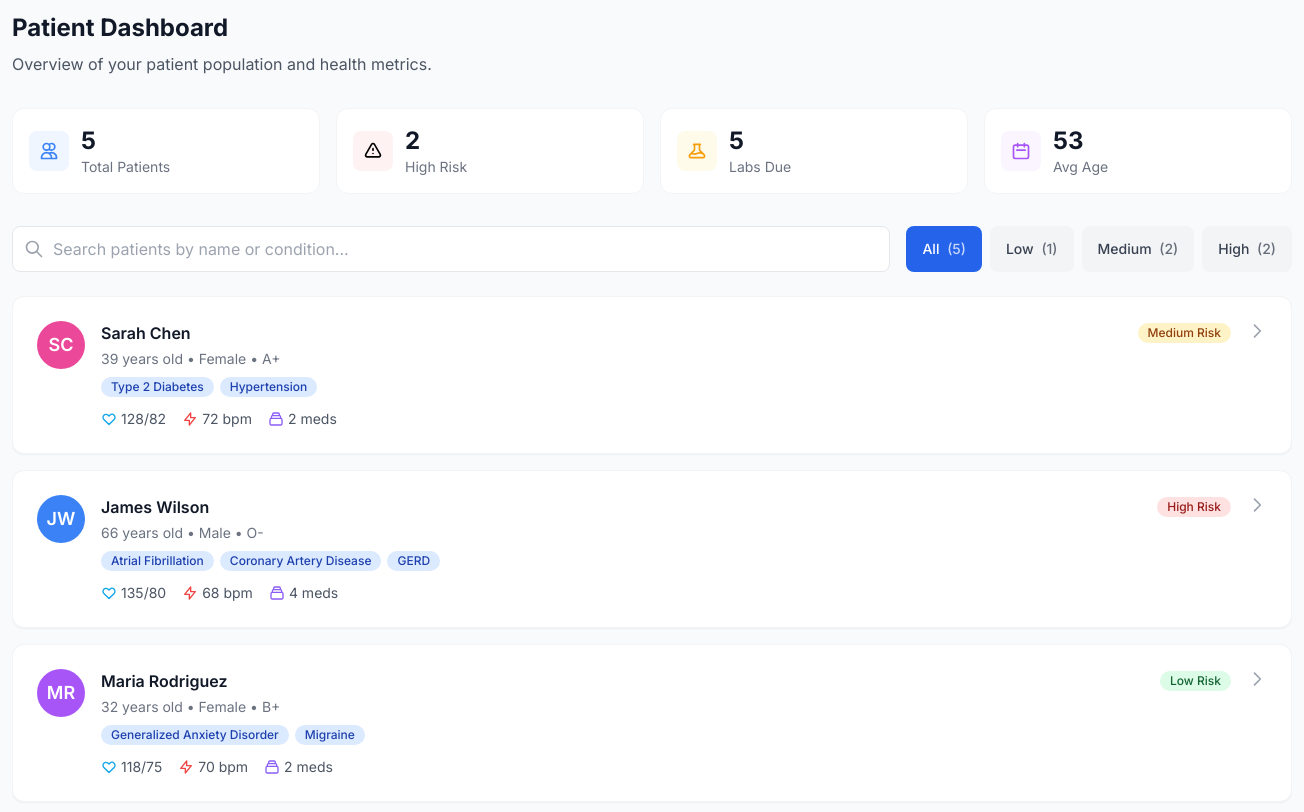
Dashboard › filters patients by risk level
Click the button "high (2)" at (1247, 249), box [1202,226,1292,272]
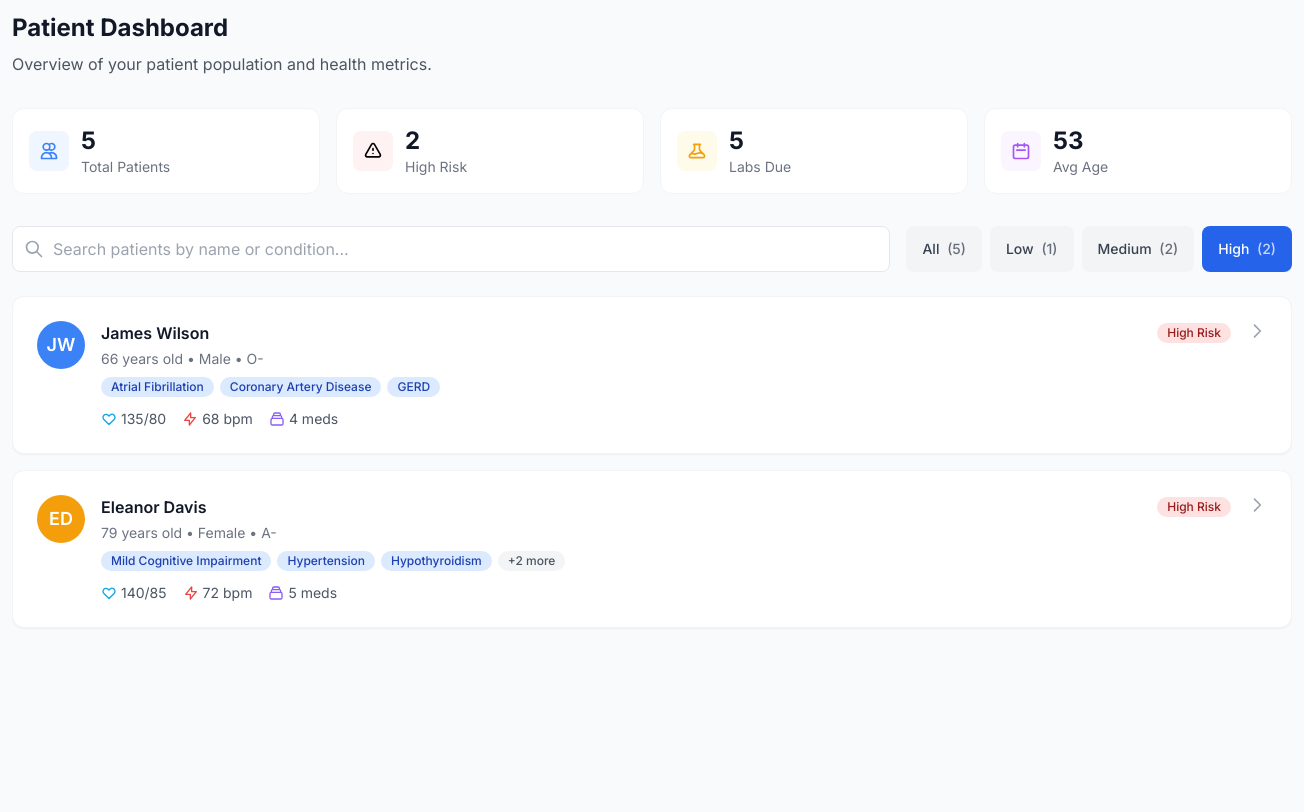
Expected: the text "James Wilson" is shown, [101,321,209,345]
Now the text "Maria Rodriguez" is gone
